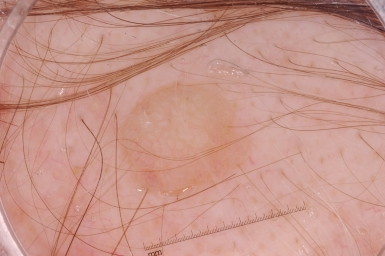seborrheic keratosis: (106, 80, 266, 206)
